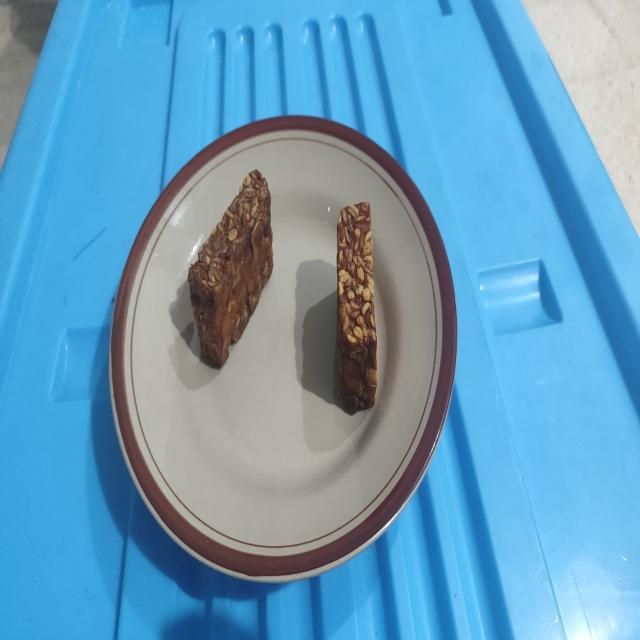tempe_goreng: (188, 170, 273, 369), (337, 202, 378, 412)
